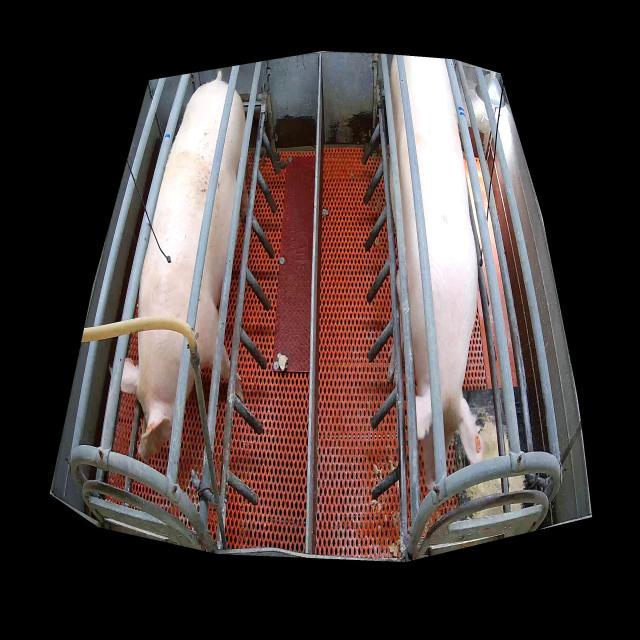pig: (120, 81, 248, 461), (389, 57, 483, 491)
